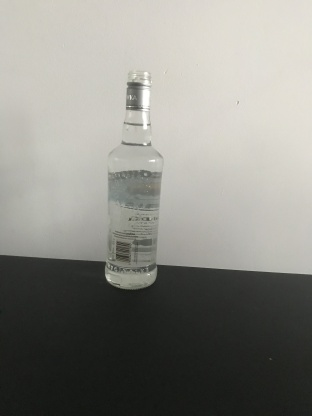nakretka: (124, 68, 153, 113)
